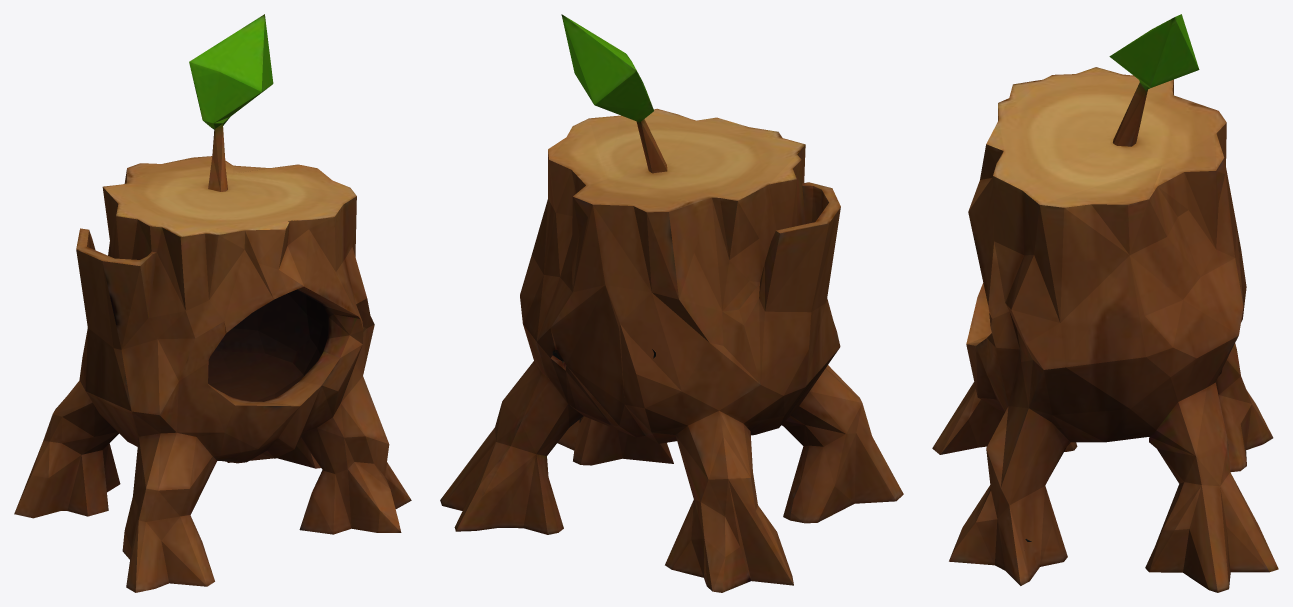
The model's file is monstre_souche_marcheuse.glb.
3 renders of one model, left to right at view 1: azimuth 30°, elevation 25°; view 2: azimuth 150°, elevation 25°; view 3: azimuth 270°, elevation 25°, orthographic. The views are drawn at different scales.
Parts seen in each view (by area): view 1: geometry_0; view 2: geometry_0; view 3: geometry_0.
Boxes of the visible parts, box(x1,y1,x2,y2) form: geometry_0: box(14, 14, 411, 592); geometry_0: box(440, 14, 903, 592); geometry_0: box(932, 14, 1278, 592).
Size of the model in its own units: 0.7446 by 0.9995 by 0.5992.
1 material, 1 textured.
